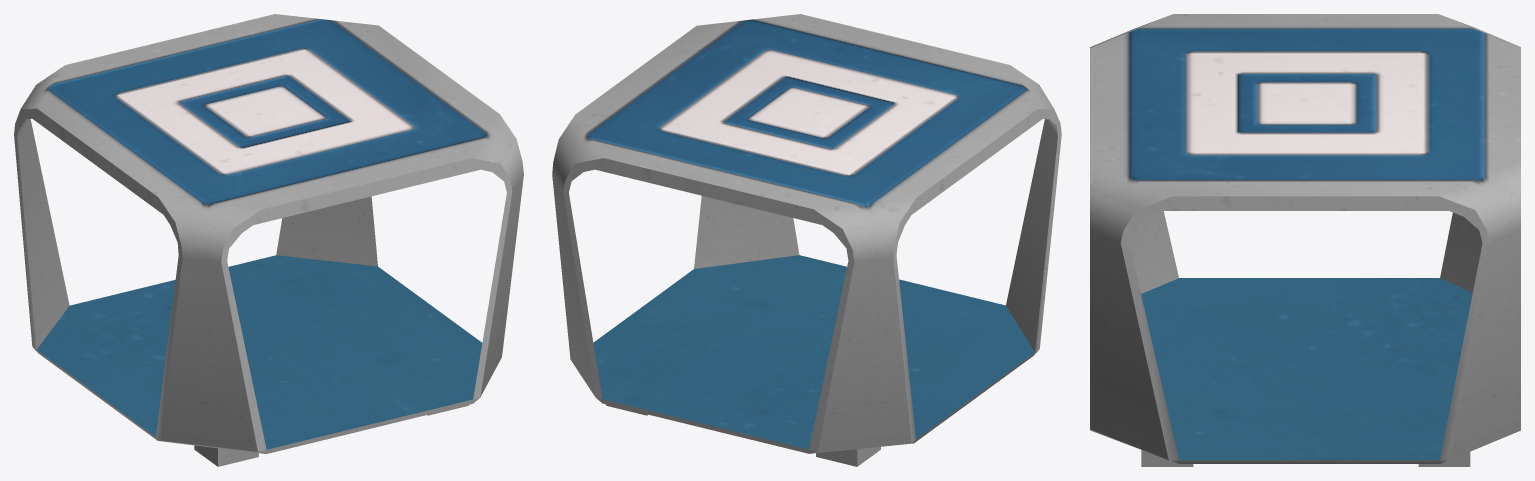
File: Table_Lounge_01.FBX
3 renders of one model, left to right at view 1: azimuth 30°, elevation 25°; view 2: azimuth 150°, elevation 25°; view 3: azimuth 270°, elevation 25°, orthographic. The views are drawn at different scales.
Parts seen in each view (by area): view 1: Table_Lounge_01; view 2: Table_Lounge_01; view 3: Table_Lounge_01.
Boxes of the visible parts, <box> form: Table_Lounge_01: <box>14,14,523,466</box>; Table_Lounge_01: <box>552,14,1061,466</box>; Table_Lounge_01: <box>1090,14,1520,466</box>.
Size of the model in its own units: 33.19 by 25.05 by 33.16.
